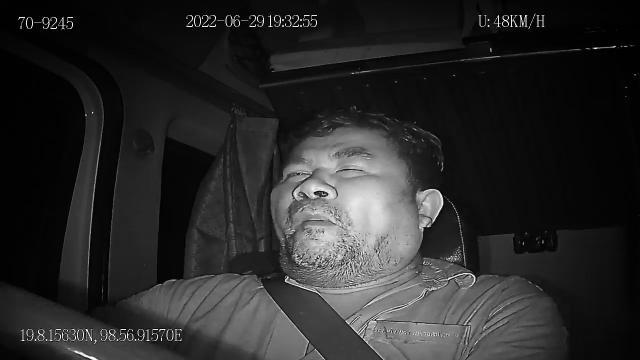Seatbelt: (258, 270, 388, 360)
